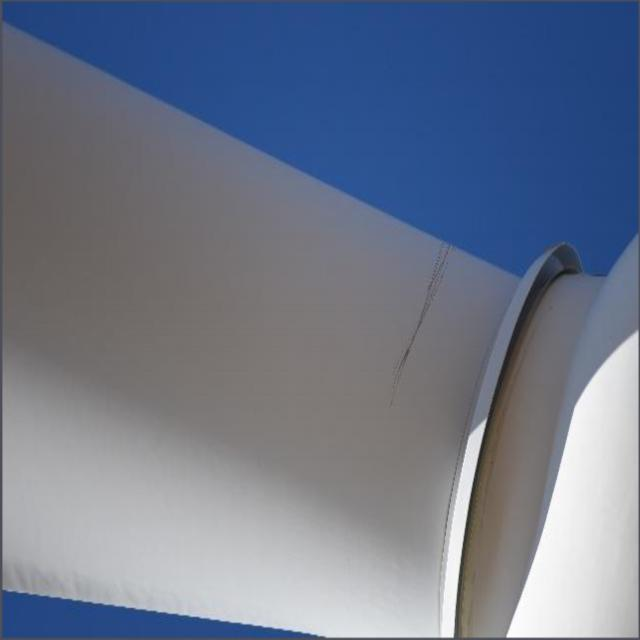Crack: (394, 234, 449, 401)
